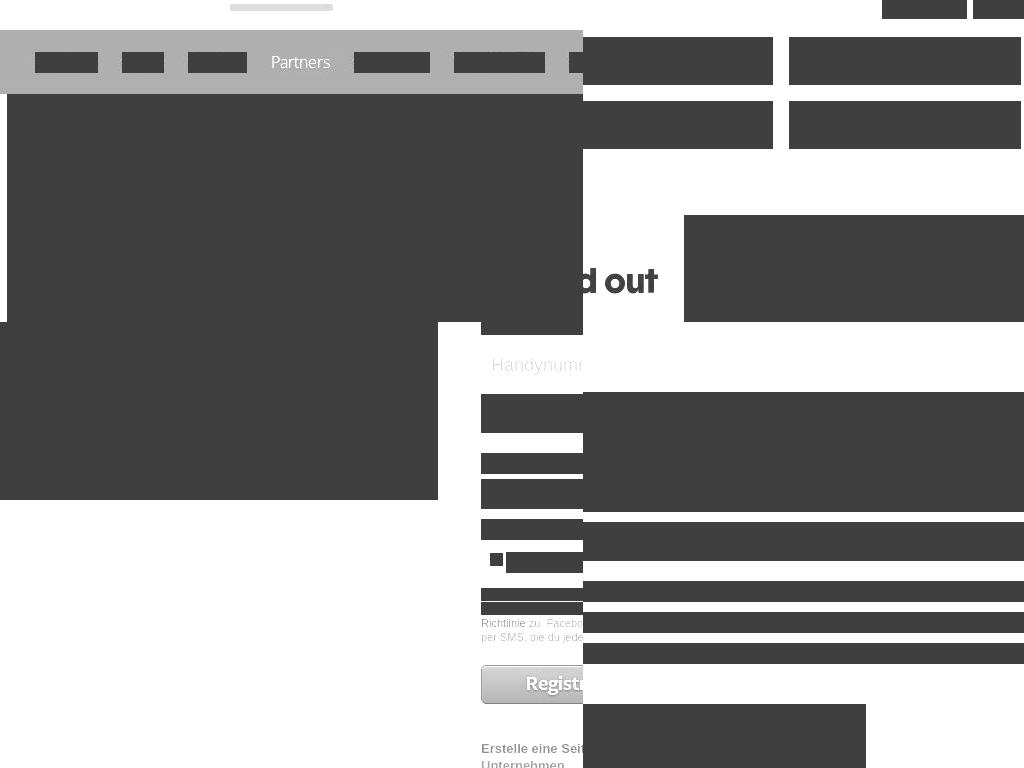button: (789, 37, 1021, 85), (789, 101, 1021, 149), (583, 37, 773, 85), (583, 101, 773, 149), (481, 664, 583, 704), (882, 0, 967, 19), (973, 0, 1024, 19)
field: (481, 345, 583, 384), (481, 394, 583, 433), (481, 479, 534, 509), (534, 479, 583, 509), (490, 553, 503, 566)
heading: (583, 392, 1024, 512), (583, 522, 1024, 561)
iframe: (583, 704, 866, 768)
image: (0, 322, 438, 500), (684, 215, 1024, 322)
label: (506, 552, 583, 573)
link: (481, 602, 583, 629), (454, 52, 545, 73), (481, 740, 583, 756), (354, 52, 430, 73), (481, 602, 583, 615), (35, 52, 98, 73), (188, 52, 247, 73), (271, 52, 330, 73), (122, 52, 164, 73)
text: (7, 94, 583, 322), (583, 581, 1024, 602), (583, 612, 1024, 633), (583, 643, 1024, 664), (583, 262, 687, 322), (481, 740, 583, 768), (481, 616, 583, 643), (481, 453, 583, 474), (481, 519, 583, 540), (804, 52, 895, 72), (481, 588, 583, 601), (583, 52, 648, 72), (804, 116, 861, 136), (583, 116, 605, 136), (922, 0, 955, 9)
